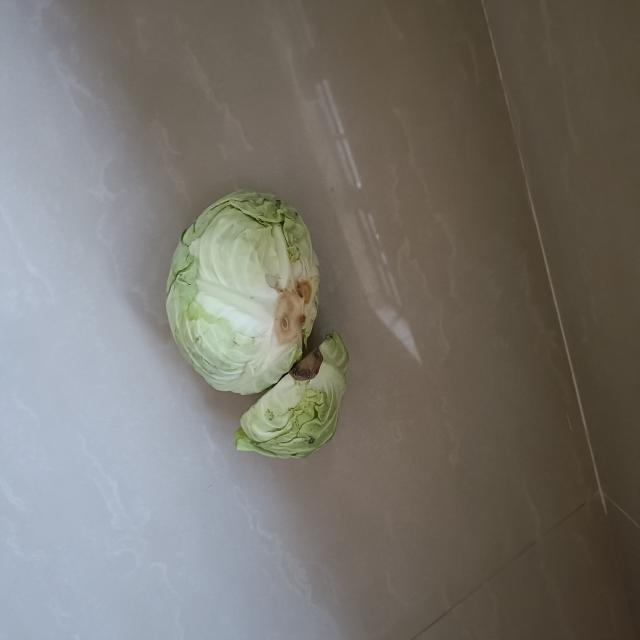cabbage: (162, 185, 324, 402), (231, 326, 350, 466)
